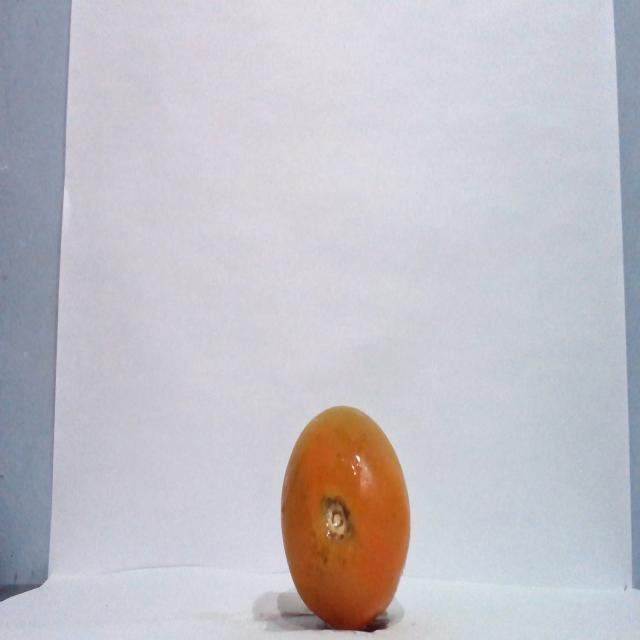Red: (279, 403, 411, 630)
